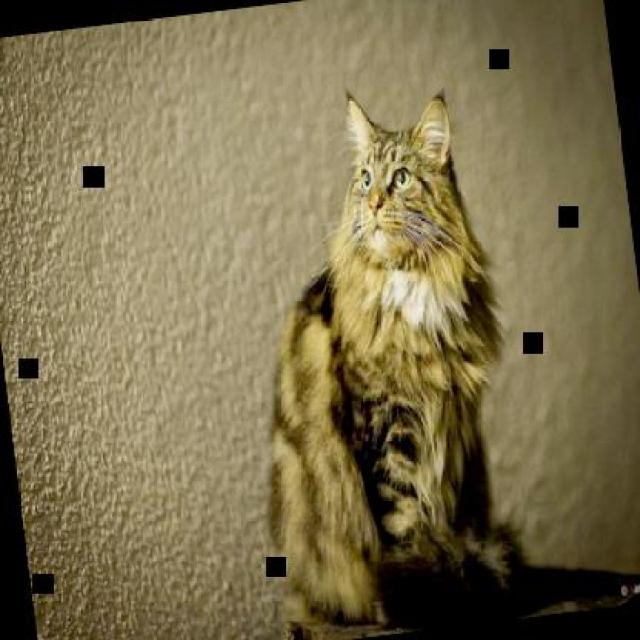cat: (225, 76, 524, 627)
